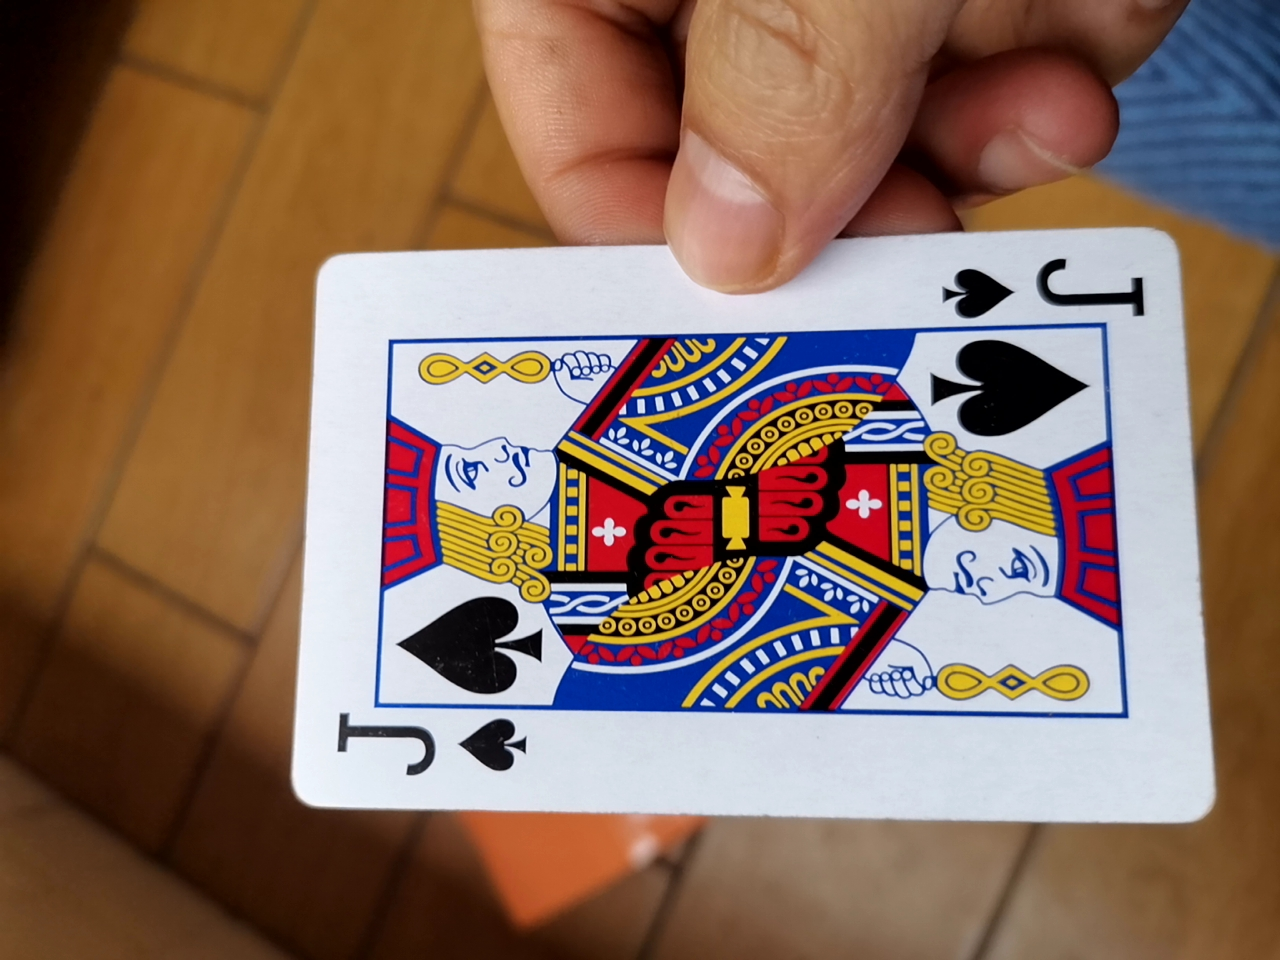ht j: (274, 226, 1189, 815)
